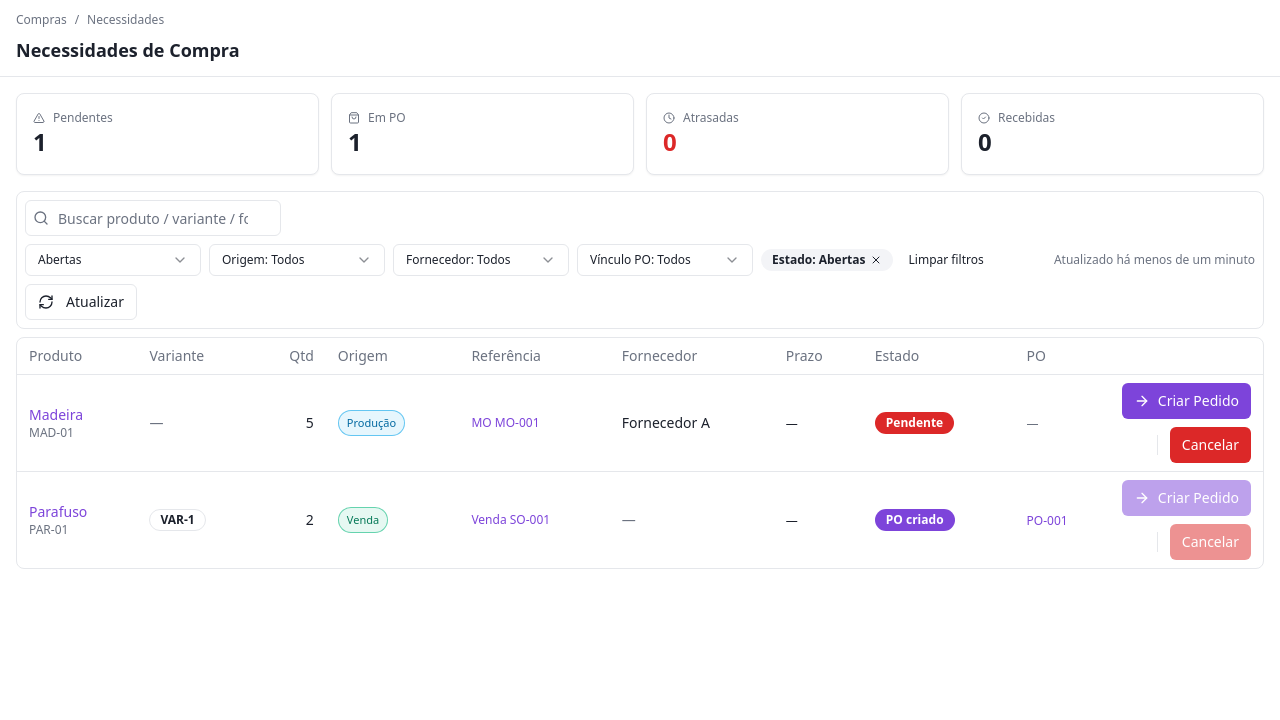
it: PurchaseNeedsList › opens convert dialog and calls purchase_needs_create_po RPC
The image size is (1280, 720).
Later steps or results of the test are not shown.
Expected: the link "Madeira" is shown, x1=29 y1=405 x2=83 y2=424
Click the button "Criar Pedido" in the row of "Madeira". click: [1186, 401]
box: x1=1122 y1=383 x2=1251 y2=419
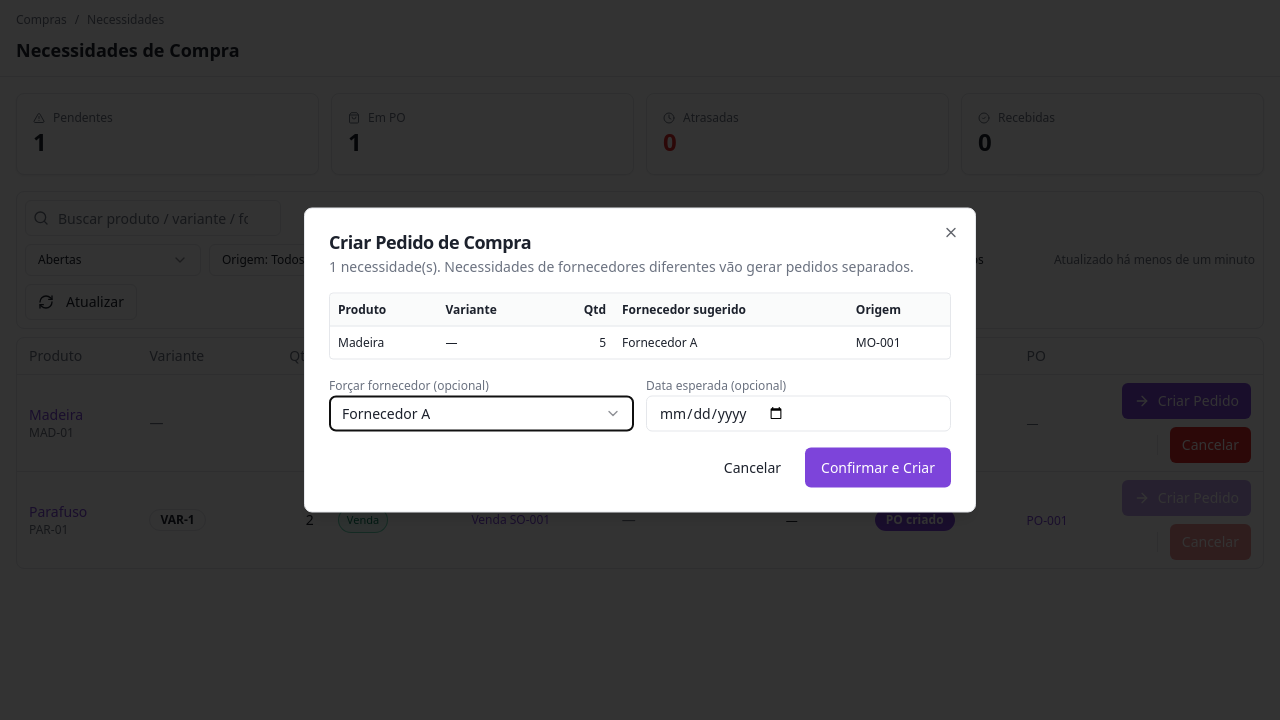
Expected: the button "Confirmar e Criar" is shown, x1=805 y1=448 x2=951 y2=488
